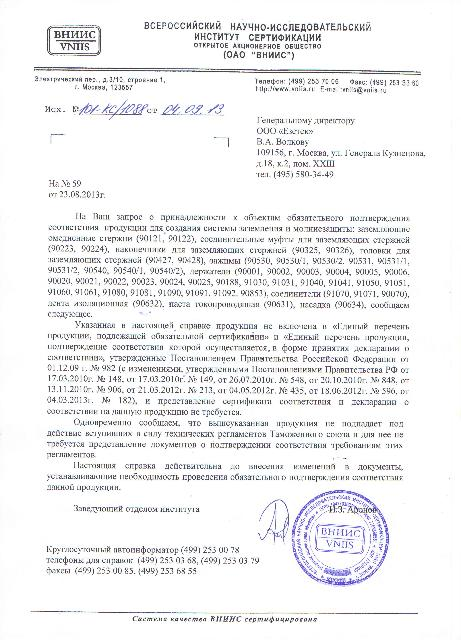stamp: (291, 488, 389, 586)
